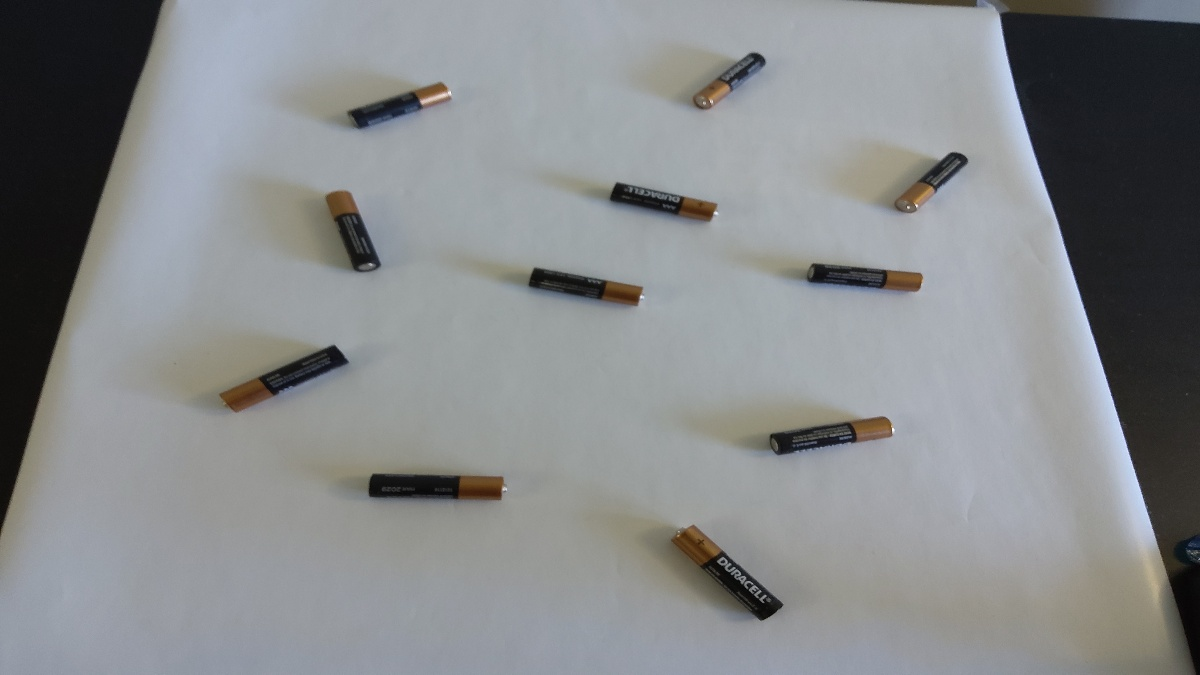battery: (652, 504, 800, 637), (209, 335, 363, 412), (756, 403, 913, 467), (518, 254, 659, 318), (354, 463, 525, 508), (311, 181, 389, 279), (796, 251, 936, 303), (597, 175, 728, 230), (881, 141, 973, 219), (347, 71, 458, 134), (684, 40, 775, 111)
